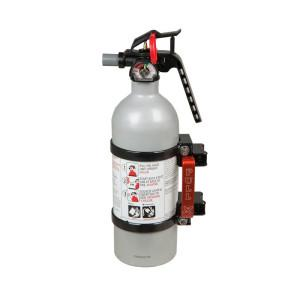Fire Extinguisher: (92, 27, 215, 278)
